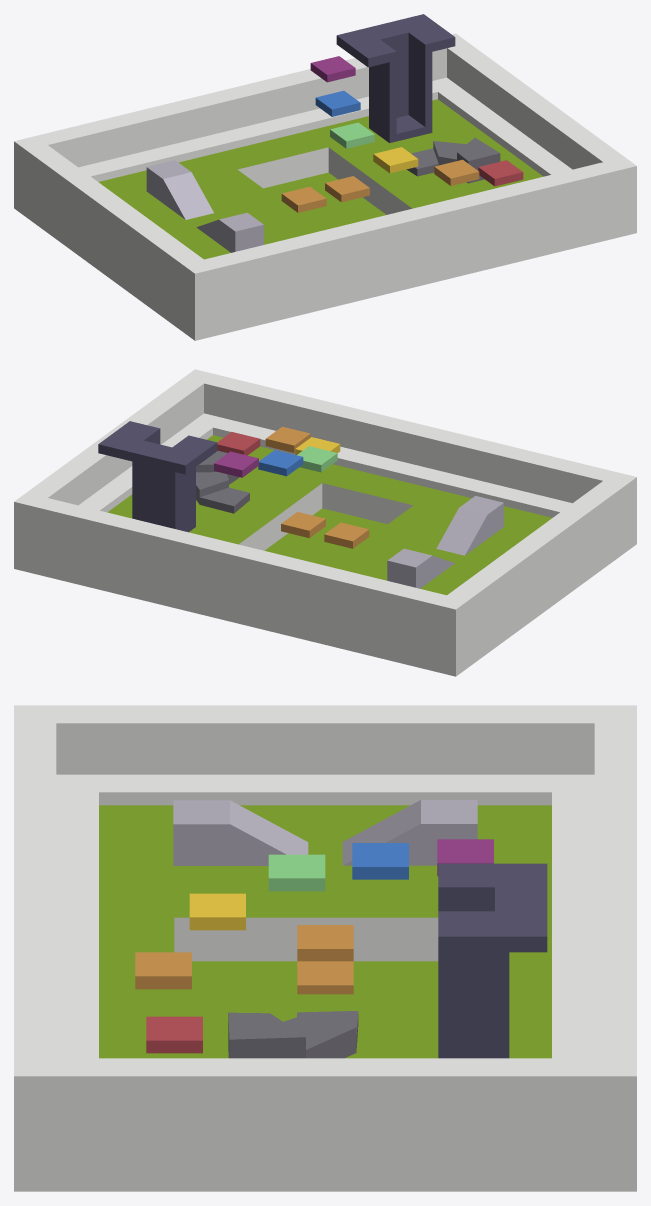
File: platformer_test_area.fbx
3 views of the same model, one above another, from view 1: azimuth 30°, elevation 25°; view 2: azimuth 150°, elevation 25°; view 3: azimuth 270°, elevation 25° (orthographic). The views are drawn at different scales.
Parts seen in each view (by area): view 1: Cube.009; view 2: Cube.009; view 3: Cube.009.
Part boxes in pixels (box(x1,y1,x2,y2)): Cube.009: box(14, 14, 636, 340); Cube.009: box(14, 369, 636, 676); Cube.009: box(14, 705, 636, 1191).
Size of the model in its own units: 1550 by 401 by 1100.
